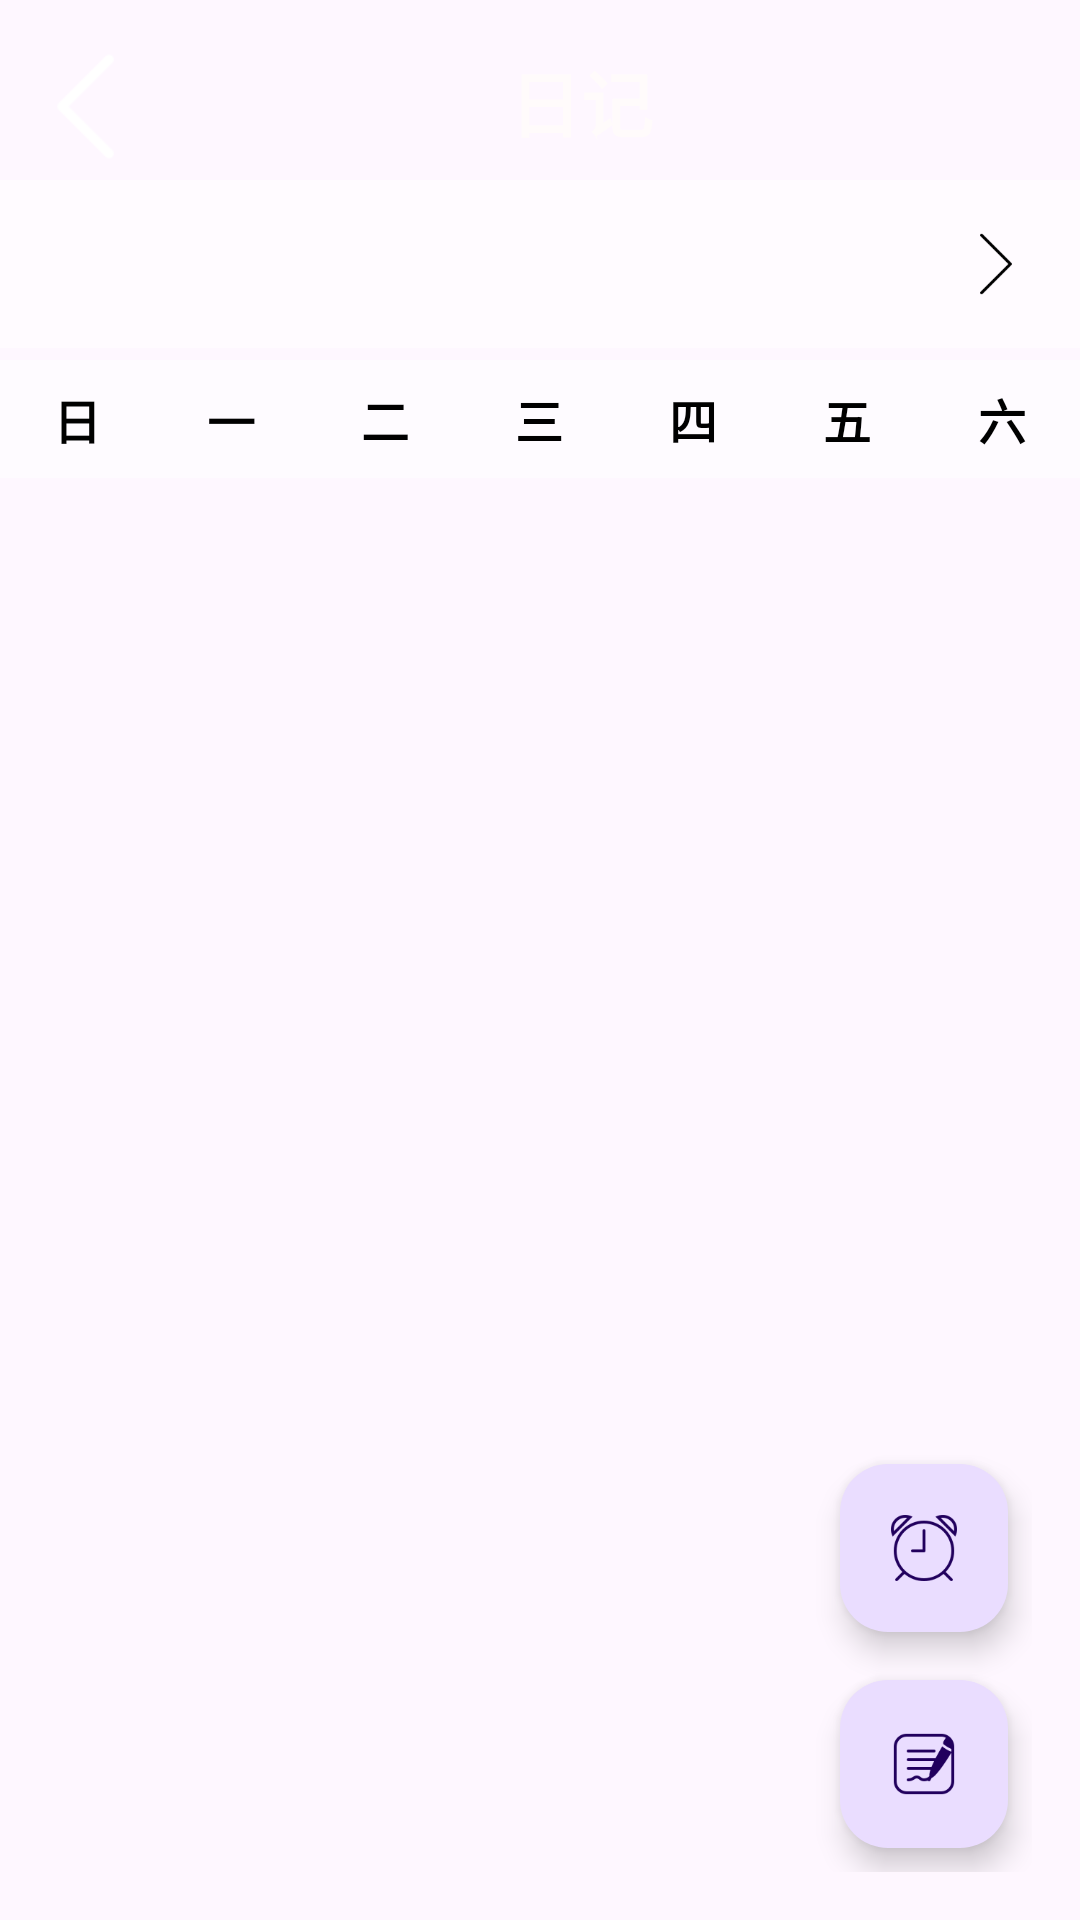

Named icons in this screenshot (1080x1920) and their centers, point (x, y):
arrow right: point (996, 264)
新建日程: point (924, 1548)
新建日记: point (924, 1764)
